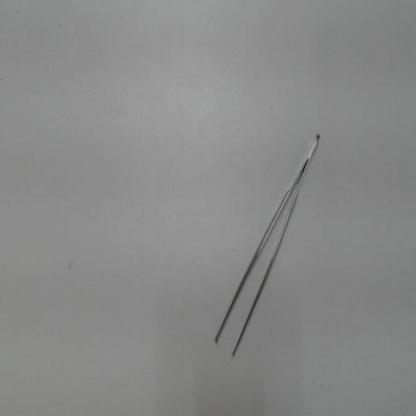Gillies Toothed Dissector: (203, 121, 333, 367)
